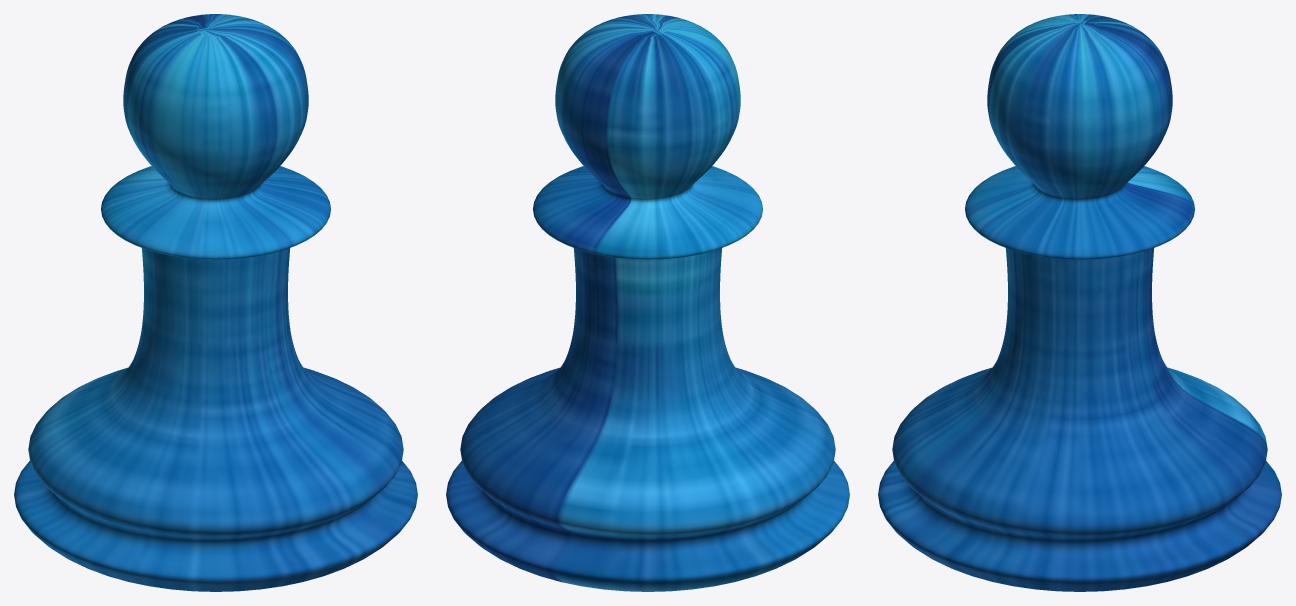
Rendered from PawnBlue.obj.
The picture shows the model from 3 angles, left to right: view 1: azimuth 30°, elevation 25°; view 2: azimuth 150°, elevation 25°; view 3: azimuth 270°, elevation 25°; orthographic projection.
Visible parts, largest first — view 1: mesh002; view 2: mesh002; view 3: mesh002.
Boxes of the visible parts, left/top/right/bottom form: mesh002: left=14, top=14, right=417, bottom=591; mesh002: left=446, top=14, right=849, bottom=591; mesh002: left=878, top=14, right=1281, bottom=591.
Bounding box in the file's own units: 8 × 10.95 × 8.
